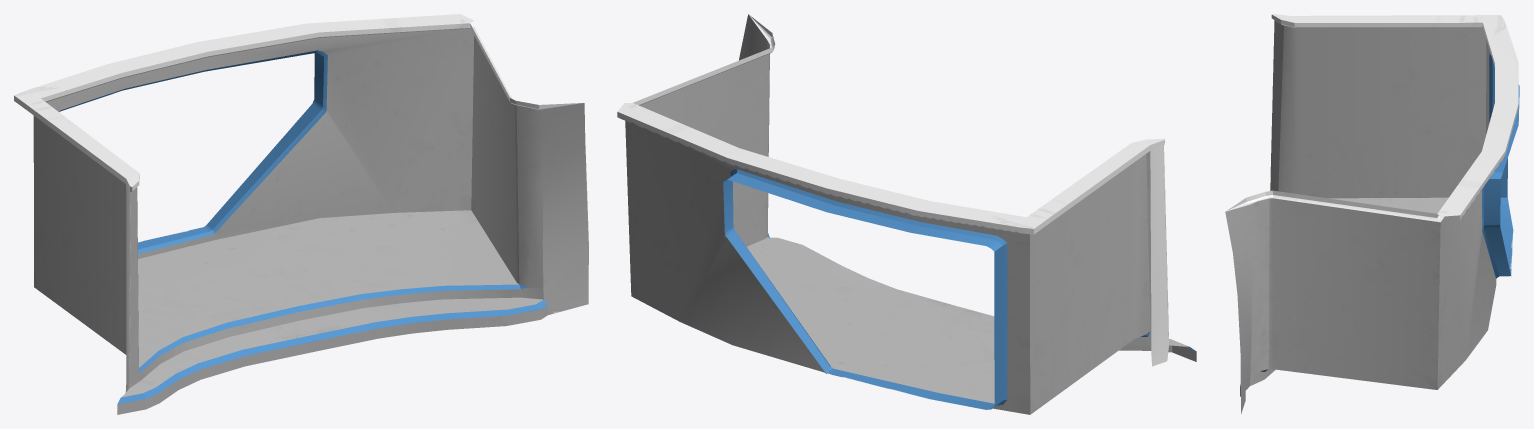
The model's file is jobRoom00.fbx.
3 renders of one model, left to right at view 1: azimuth 30°, elevation 25°; view 2: azimuth 150°, elevation 25°; view 3: azimuth 270°, elevation 25°, orthographic. The views are drawn at different scales.
Parts seen in each view (by area): view 1: Job Room V2; view 2: Job Room V2; view 3: Job Room V2.
Part boxes in pixels (x1,y1,x2,y2): Job Room V2: [14, 14, 588, 414]; Job Room V2: [617, 14, 1196, 414]; Job Room V2: [1225, 14, 1519, 413].
Bounding box in the file's own units: 25.76 × 11.57 × 15.13.
